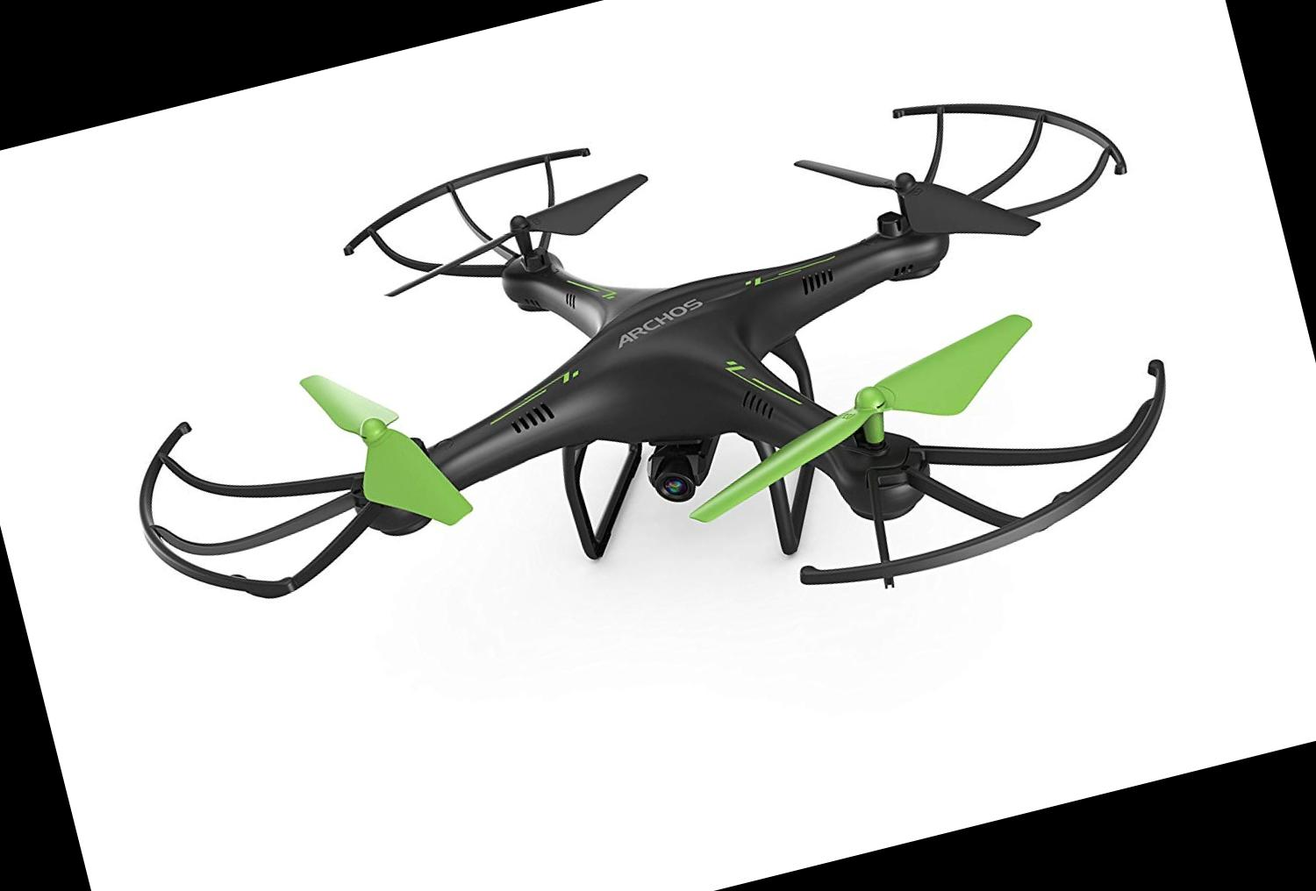drone: (47, 7, 1262, 796)
